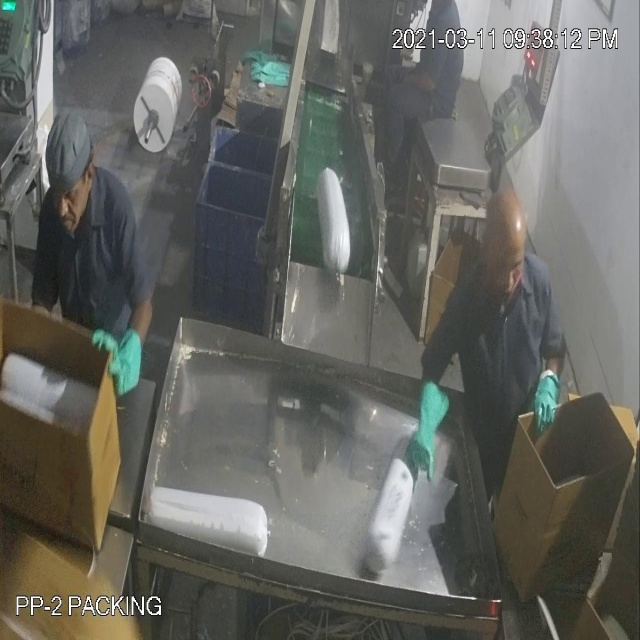Guantes: (97, 311, 148, 420), (407, 364, 447, 488), (526, 364, 576, 450)
